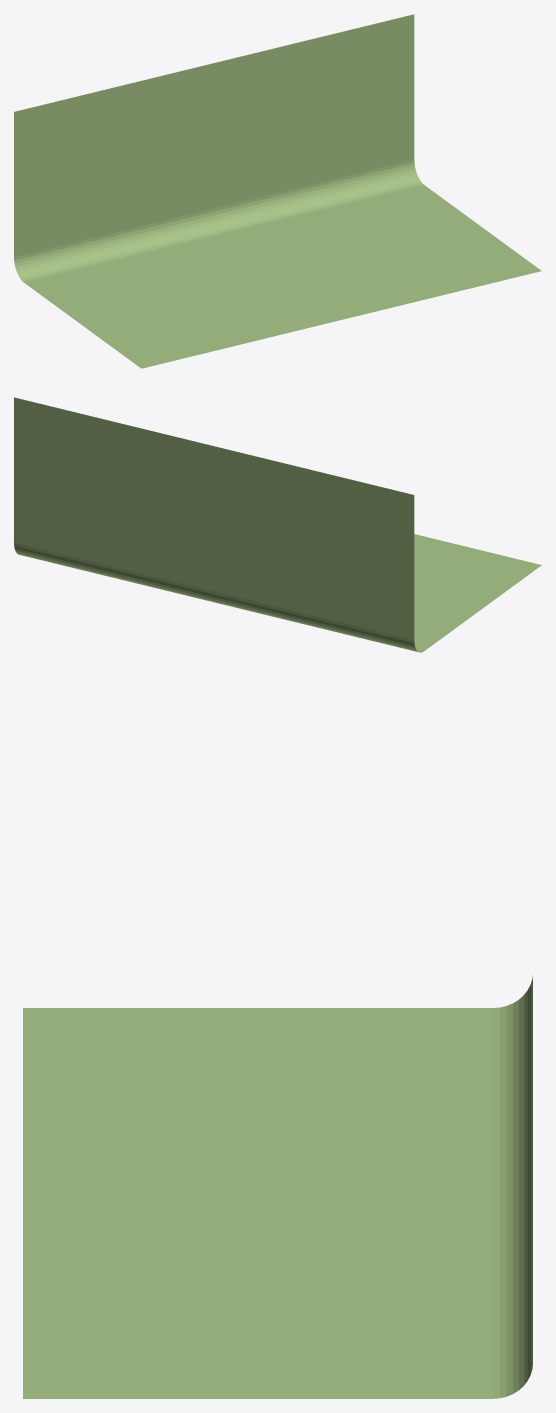
File: bgBlank2.gltf
3 renders of one model, top to bottom at view 1: azimuth 30°, elevation 25°; view 2: azimuth 150°, elevation 25°; view 3: azimuth 270°, elevation 25°, orthographic. The views are drawn at different scales.
Visible parts, largest first — view 1: Bg; view 2: Bg; view 3: Bg.
Part boxes in pixels (x1=…): Bg: x1=14, y1=14, x2=541, y2=368; Bg: x1=14, y1=397, x2=541, y2=652; Bg: x1=23, y1=975, x2=532, y2=1398.
Bounding box in the file's own units: 60.86 × 23.74 × 33.58.
